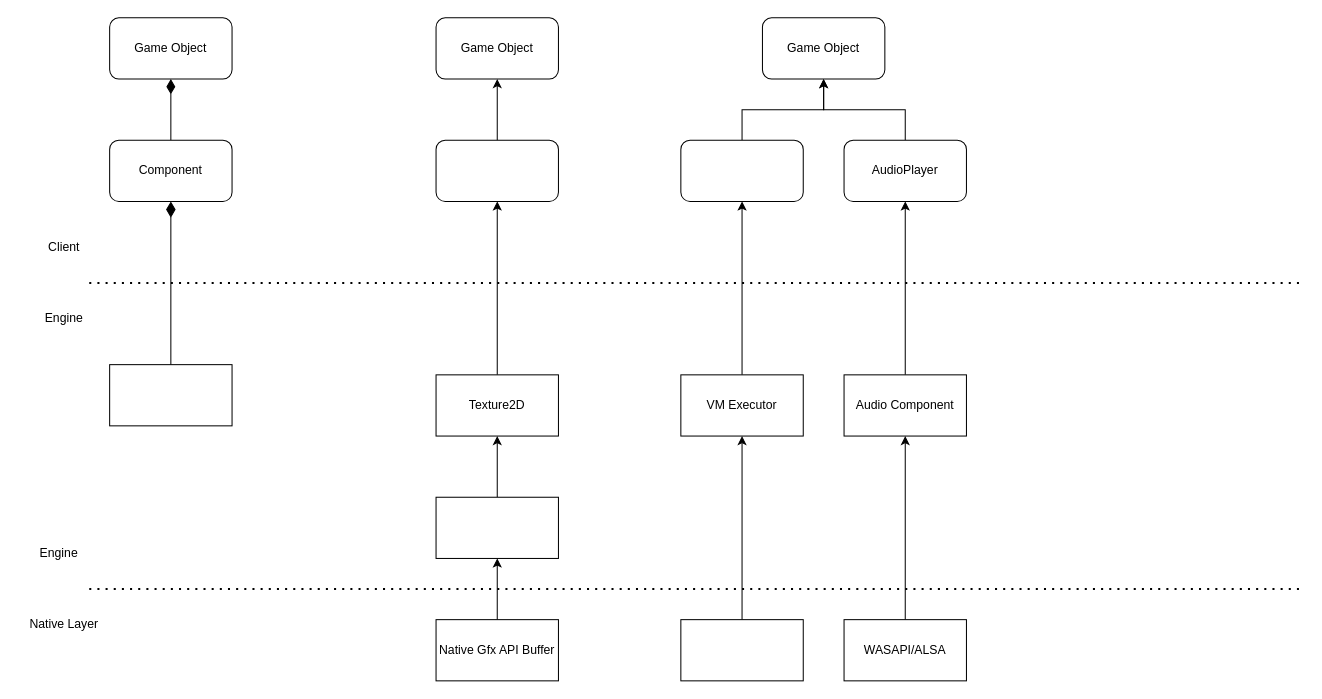
The diagram is 1322 pixels wide and 699 high, and some of its shapes have lost their labels. The shapes that lost their labels are listed below. From the top down, each one's centre as x and y in pixels, then its label:
[496,170]: Sprite Sheet Component
[741,170]: Script
[170,395]: Engine Component
[496,527]: Texture Reference Pool
[741,650]: Machine Code
